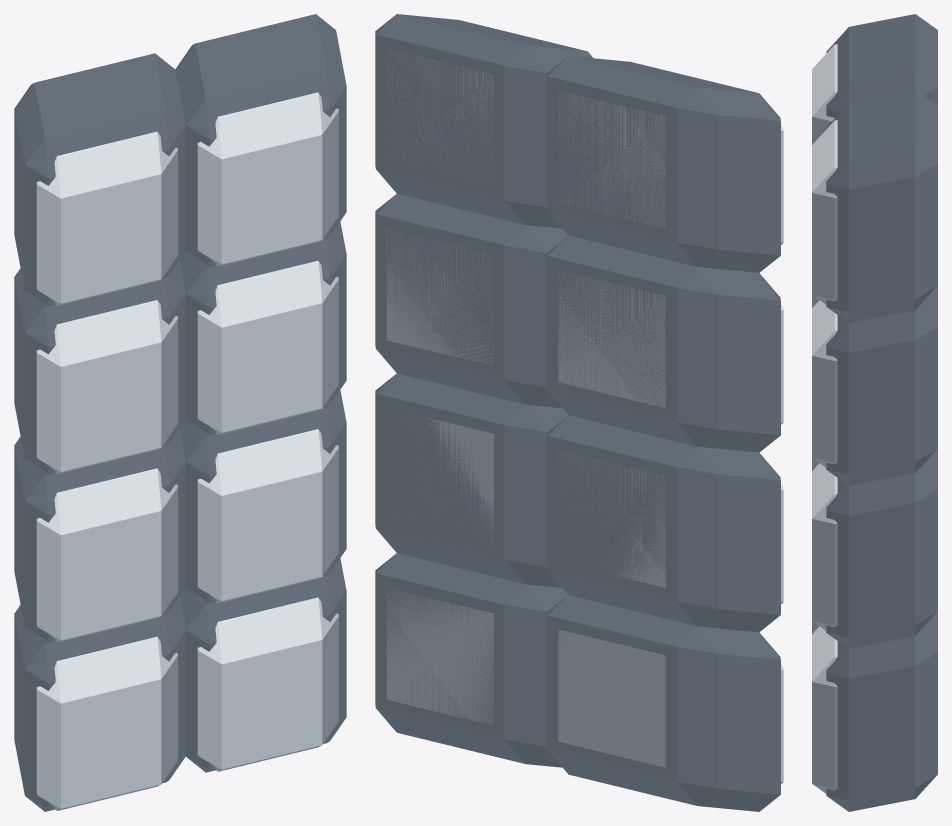
The model's file is Terrain_Block2x4.gltf.
3 renders of one model, left to right at view 1: azimuth 30°, elevation 25°; view 2: azimuth 150°, elevation 25°; view 3: azimuth 270°, elevation 25°, orthographic. The views are drawn at different scales.
Parts seen in each view (by area): view 1: Terrain_Block2x4_baked; view 2: Terrain_Block2x4_baked; view 3: Terrain_Block2x4_baked.
Part boxes in pixels (x1,y1,x2,y2): Terrain_Block2x4_baked: (14,14,346,811); Terrain_Block2x4_baked: (375,14,783,811); Terrain_Block2x4_baked: (812,14,937,811).
Size of the model in its own units: 2.15 by 4.15 by 0.7.
